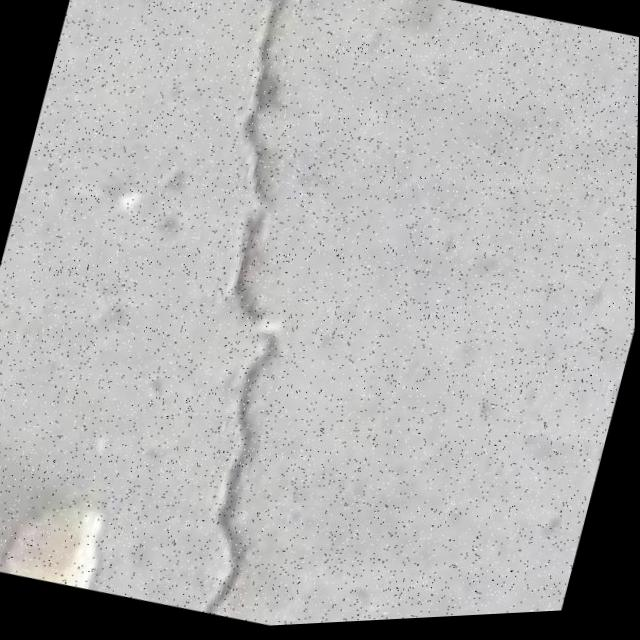Crack: (38, 0, 403, 630)
